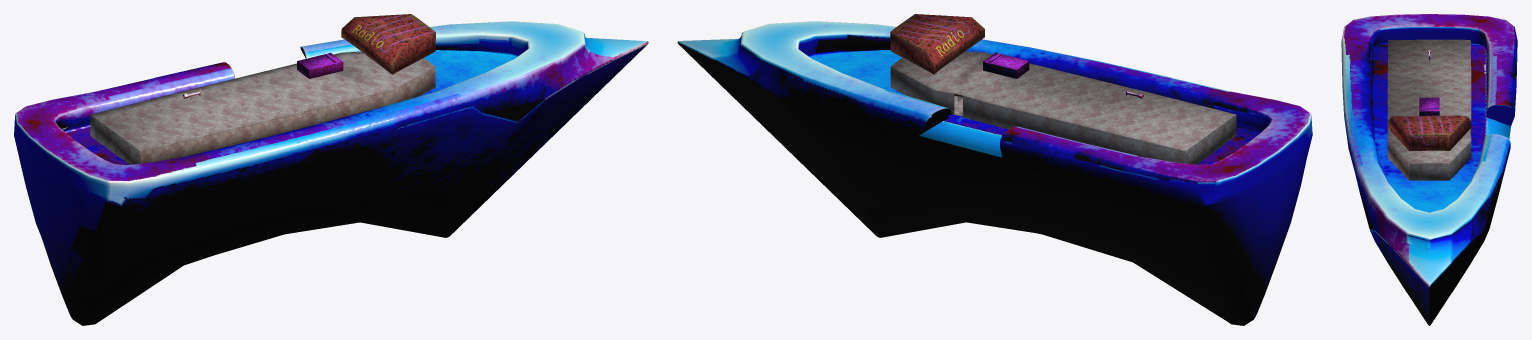
The model's file is ship.glb.
3 views of the same model, side by side, from view 1: azimuth 30°, elevation 25°; view 2: azimuth 150°, elevation 25°; view 3: azimuth 270°, elevation 25° (orthographic). The views are drawn at different scales.
Visible parts, largest first — view 1: Cube.010, Cube.011, Cube.012, Cube.013; view 2: Cube.010, Cube.011, Cube.012, Cube.013; view 3: Cube.010, Cube.011, Cube.012, Cube.013.
Part boxes in pixels (bbox=[...]): Cube.010: bbox=[14, 21, 648, 325]; Cube.011: bbox=[90, 51, 435, 164]; Cube.012: bbox=[341, 14, 435, 74]; Cube.013: bbox=[297, 53, 343, 78]; Cube.010: bbox=[677, 21, 1312, 325]; Cube.011: bbox=[890, 51, 1236, 164]; Cube.012: bbox=[890, 14, 984, 74]; Cube.013: bbox=[983, 52, 1029, 78]; Cube.010: bbox=[1341, 14, 1517, 325]; Cube.011: bbox=[1387, 39, 1471, 180]; Cube.012: bbox=[1387, 115, 1471, 150]; Cube.013: bbox=[1419, 97, 1439, 115].
Bounding box in the file's own units: 347 × 122 × 107.
Materials: 5 (5 with a texture image).
